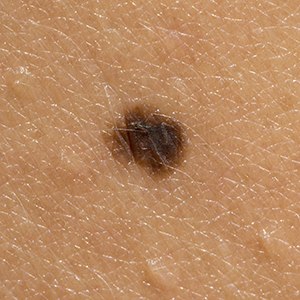melanoma: (83, 78, 243, 204)
